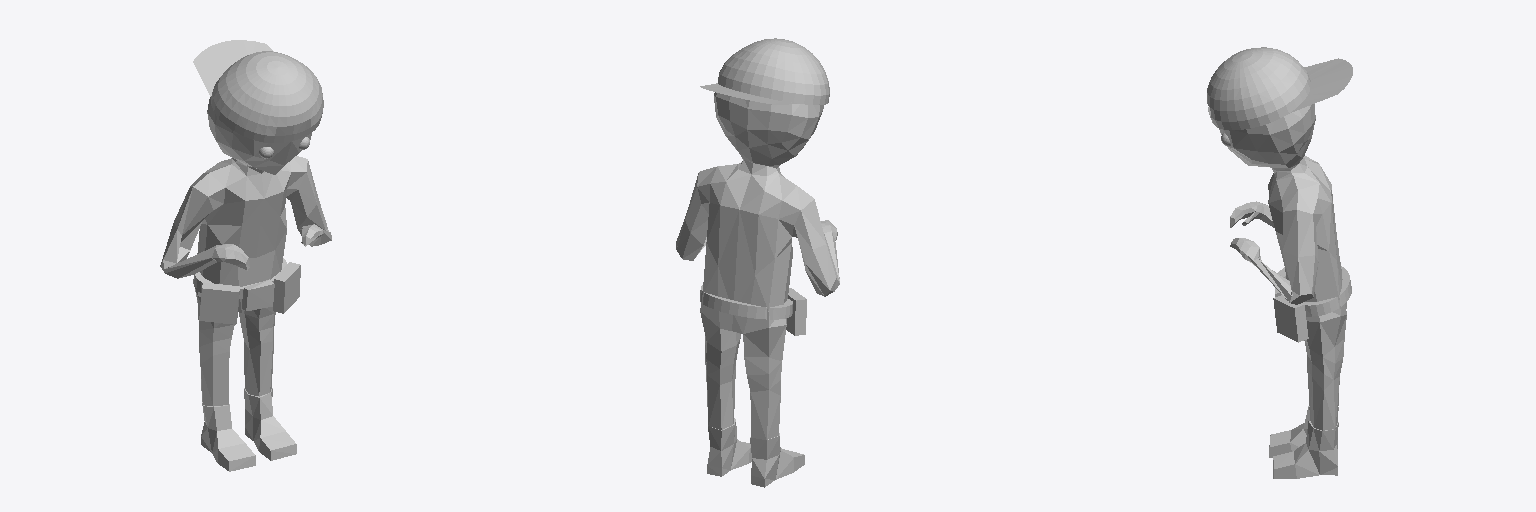
Rendered from Main_Character_Computer_9.obj.
The picture shows the model from 3 angles: view 1: azimuth 30°, elevation 25°; view 2: azimuth 150°, elevation 25°; view 3: azimuth 270°, elevation 25°; orthographic projection.
Parts seen in each view (by area): view 1: Main_Character_Test.003_Main_Character_Test.004; view 2: Main_Character_Test.003_Main_Character_Test.004; view 3: Main_Character_Test.003_Main_Character_Test.004.
Part boxes in pixels (bbox=[...]): Main_Character_Test.003_Main_Character_Test.004: bbox=[160, 40, 331, 471]; Main_Character_Test.003_Main_Character_Test.004: bbox=[676, 38, 839, 487]; Main_Character_Test.003_Main_Character_Test.004: bbox=[1207, 47, 1352, 478].
Size of the model in its own units: 1.64 by 3.91 by 1.27.